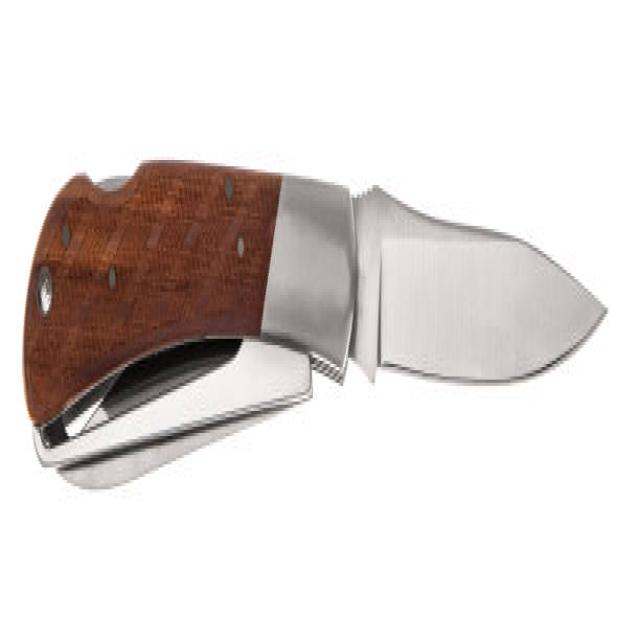knife: (19, 151, 613, 511)
